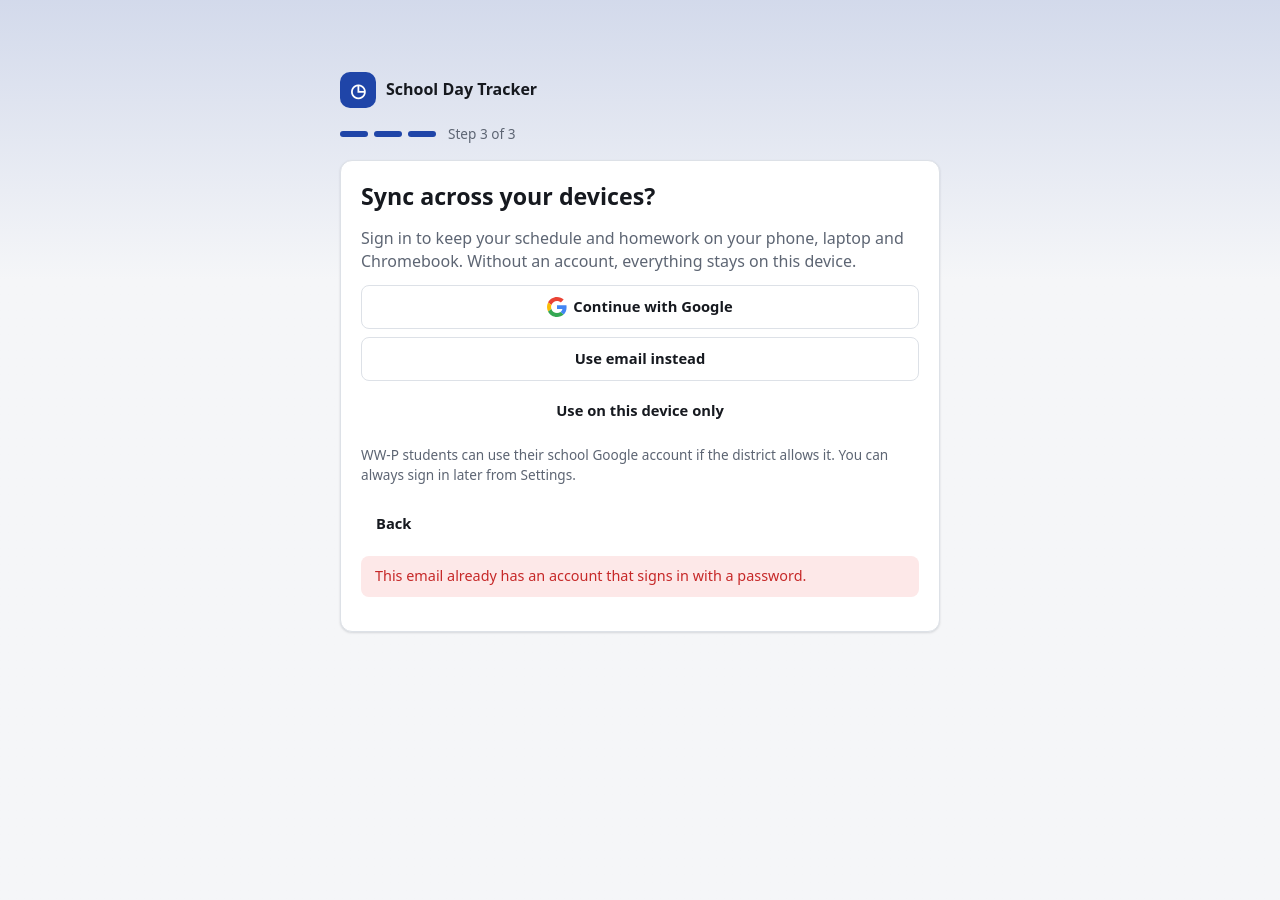
Test: OnboardingPage › shows a Google sign-in that failed after a redirect on the account step
The width and height of the screenshot is (1280, 900).
Expected: the heading "Sync across your devices?" is shown, [361,180,655,212]
Expected: the message shows "This email already has an account", [375,566,806,585]
not on the other steps
What coordinates should you click on to do the following:
click the button "Back"
I would click on:
 (394, 524)
Its box is [361,504,426,544].
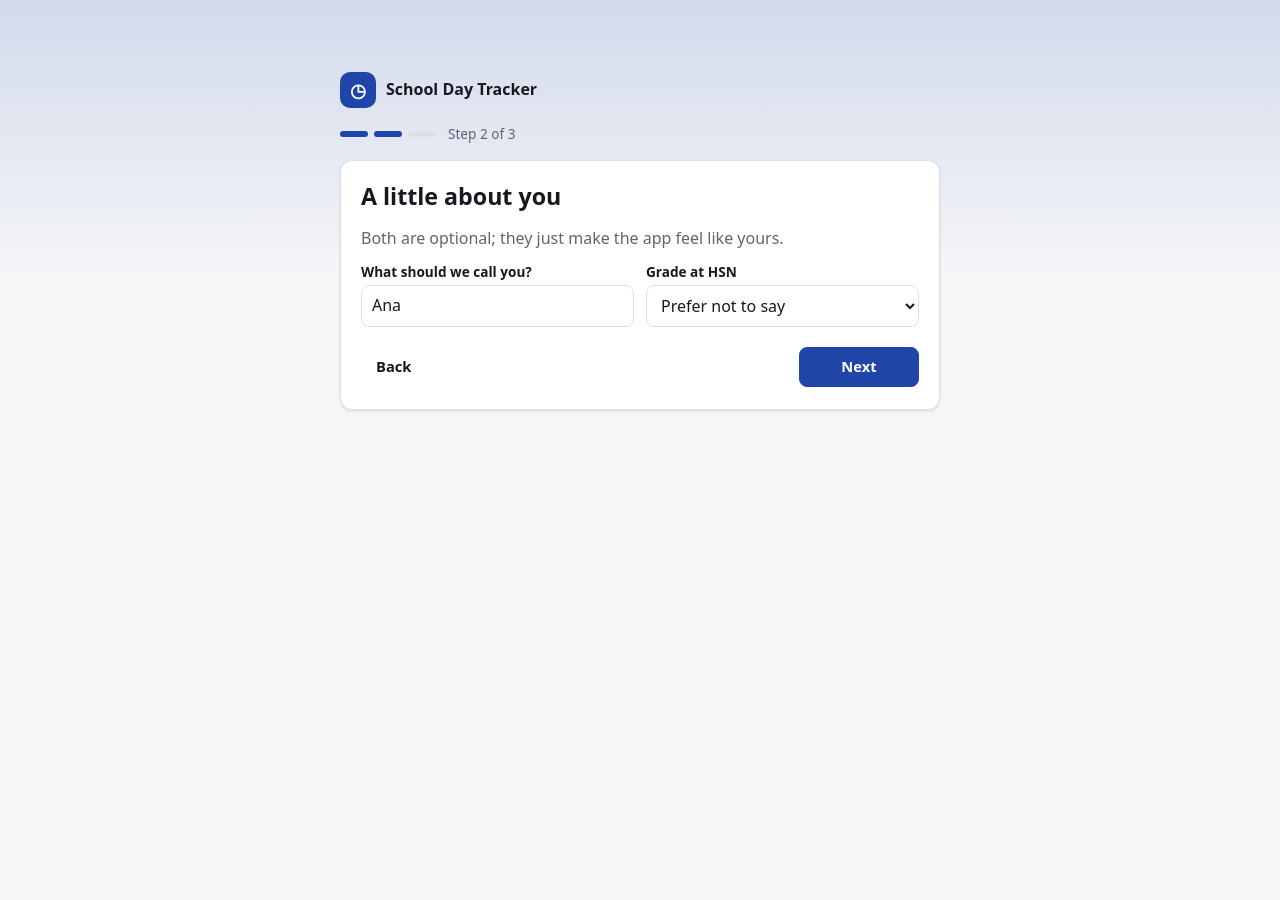
Result: the message "This email already has an account that signs in with a password." is gone
